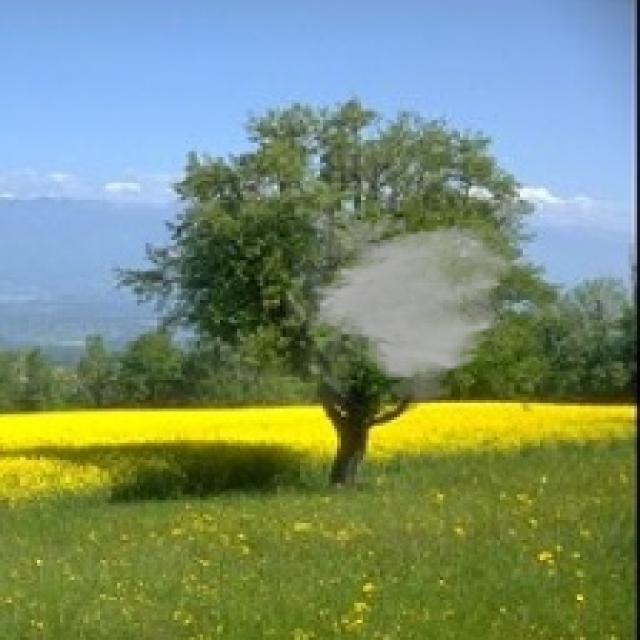Smoke: (286, 202, 514, 408)
